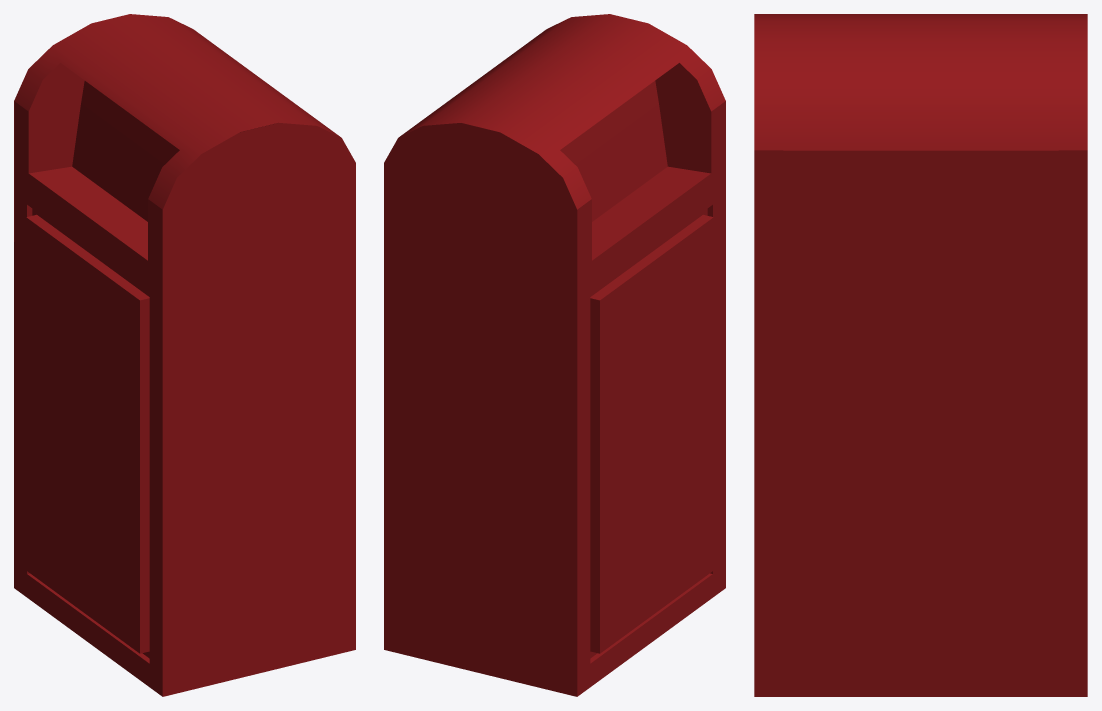
The model's file is PostBox_Red_Large.FBX.
3 views of the same model, side by side, from view 1: azimuth 30°, elevation 25°; view 2: azimuth 150°, elevation 25°; view 3: azimuth 270°, elevation 25° (orthographic). The views are drawn at different scales.
Visible parts, largest first — view 1: PostBox_Red_Large; view 2: PostBox_Red_Large; view 3: PostBox_Red_Large.
Part boxes in pixels (bbox=[...]): PostBox_Red_Large: bbox=[14, 14, 355, 696]; PostBox_Red_Large: bbox=[384, 14, 725, 696]; PostBox_Red_Large: bbox=[754, 14, 1087, 696].
Size of the model in its own units: 61.64 by 162 by 80.
